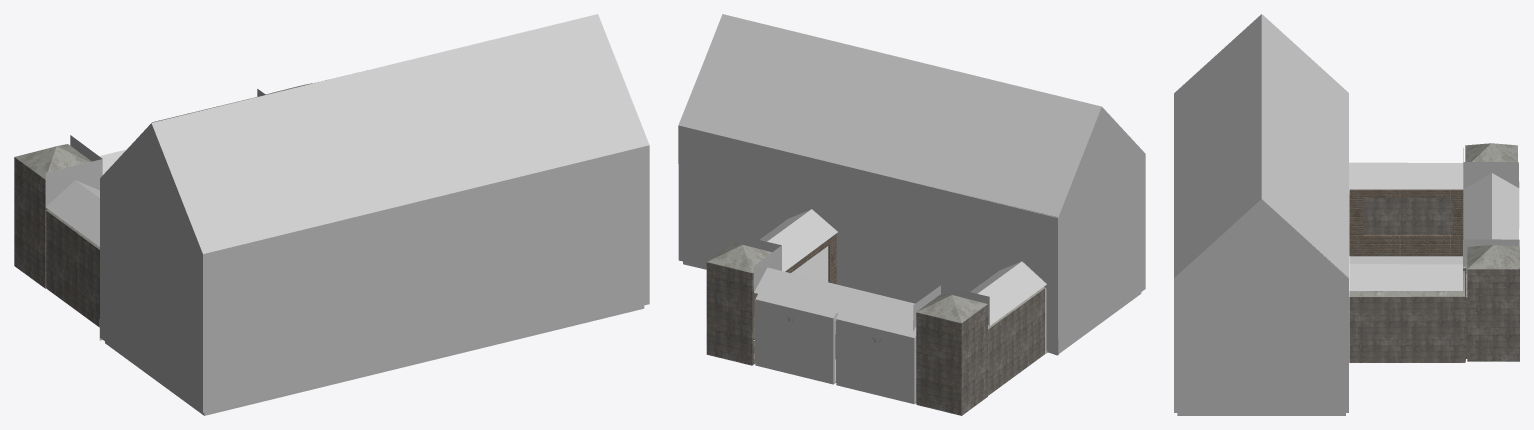
The model's file is visu_geometry.dae.
3 views of the same model, side by side, from view 1: azimuth 30°, elevation 25°; view 2: azimuth 150°, elevation 25°; view 3: azimuth 270°, elevation 25° (orthographic). The views are drawn at different scales.
Parts seen in each view (by area): view 1: Cube, Cube_004, Cube_001, roof; view 2: Cube, roof, Cube_004, Cube_009, Cube_006, Cube_005, Cube_001, Cube_002; view 3: Cube, roof, Cube_002, Cube_001, Cube_005, Cube_003, Cube_004.
Boxes of the visible parts, bbox=[...] form: Cube: bbox=[100, 14, 649, 415]; Cube_004: bbox=[14, 144, 91, 288]; Cube_001: bbox=[46, 209, 99, 327]; roof: bbox=[45, 80, 326, 340]; Cube: bbox=[678, 14, 1145, 355]; roof: bbox=[678, 29, 1100, 355]; Cube_004: bbox=[916, 293, 987, 415]; Cube_009: bbox=[754, 294, 838, 384]; Cube_006: bbox=[835, 313, 916, 404]; Cube_005: bbox=[706, 243, 771, 365]; Cube_001: bbox=[971, 271, 1045, 395]; Cube_002: bbox=[753, 233, 836, 338]; Cube: bbox=[1174, 14, 1348, 415]; roof: bbox=[1262, 15, 1519, 290]; Cube_002: bbox=[1349, 268, 1466, 362]; Cube_001: bbox=[1349, 189, 1463, 256]; Cube_005: bbox=[1466, 245, 1519, 361]; Cube_003: bbox=[1349, 256, 1463, 267]; Cube_004: bbox=[1465, 143, 1517, 161].
Size of the model in its own units: 15.04 by 11.85 by 8.27.
